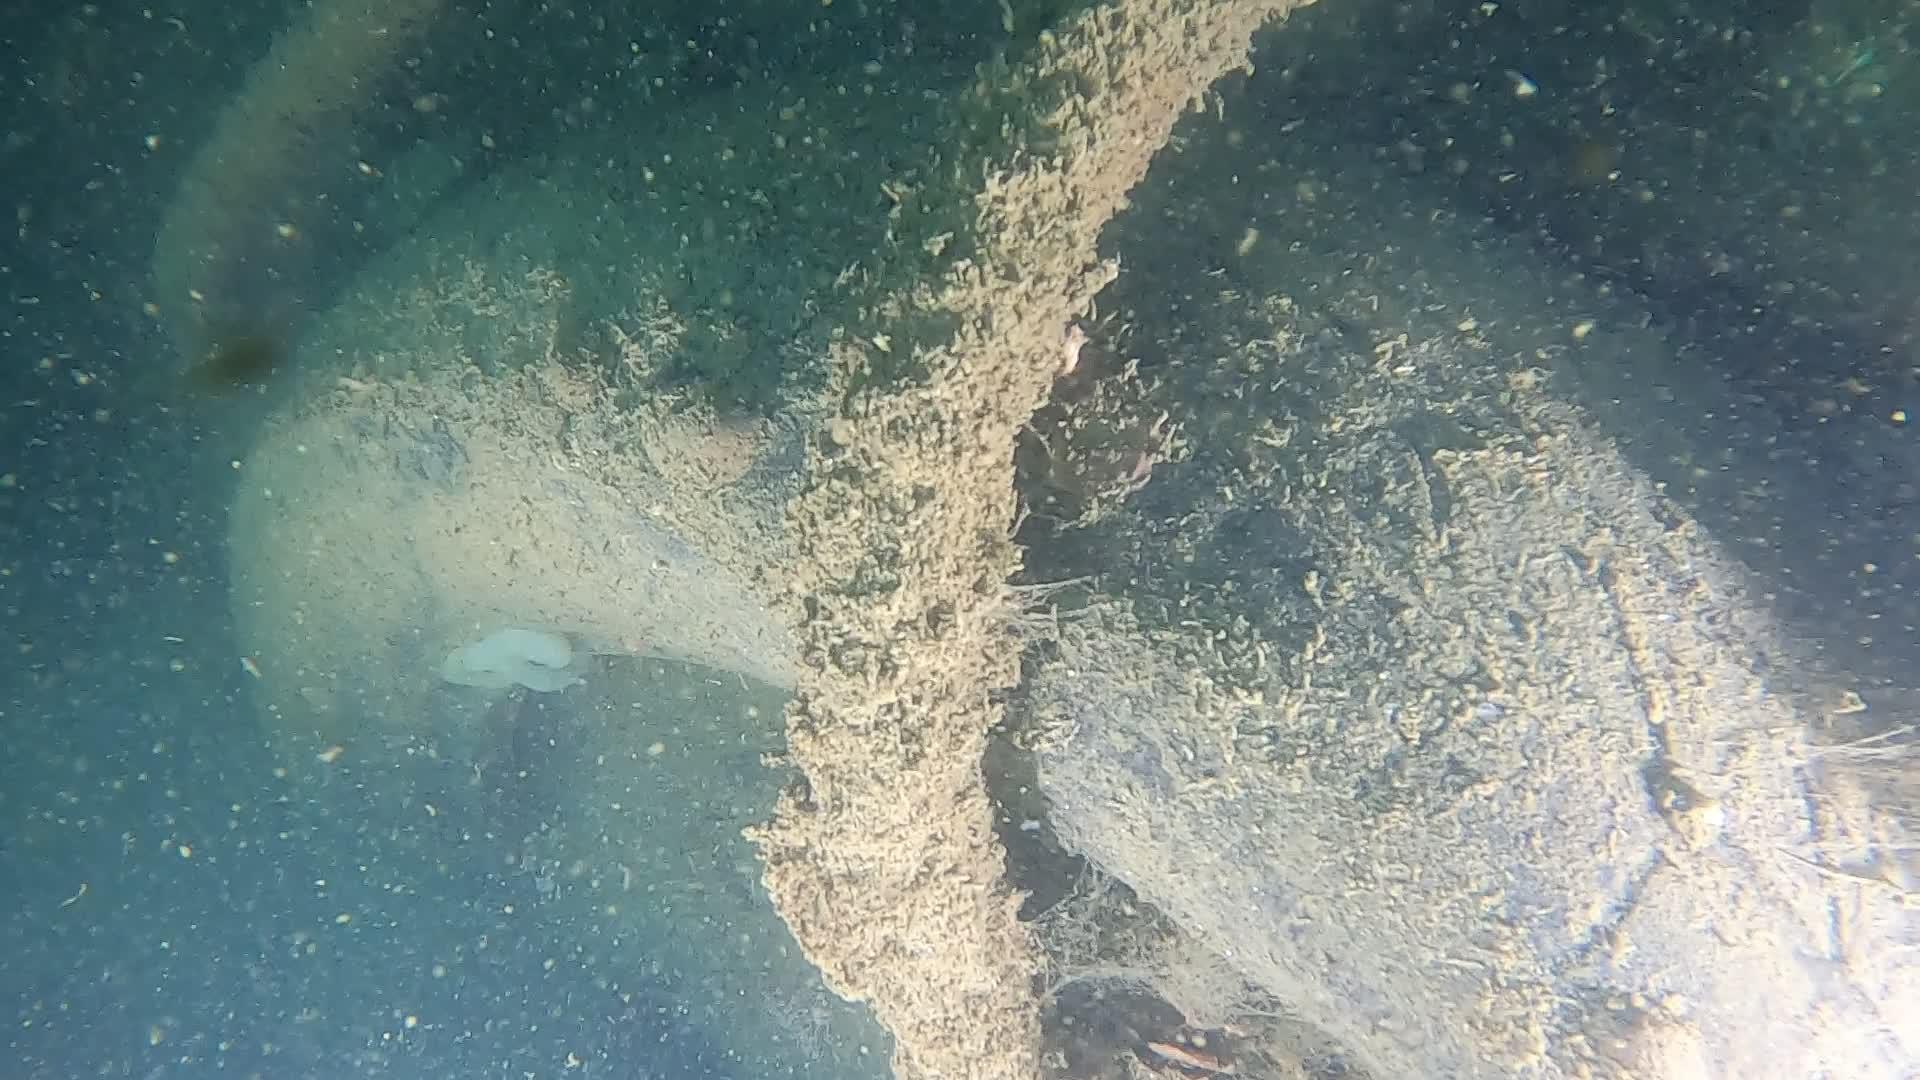tire: (222, 66, 1920, 1080)
